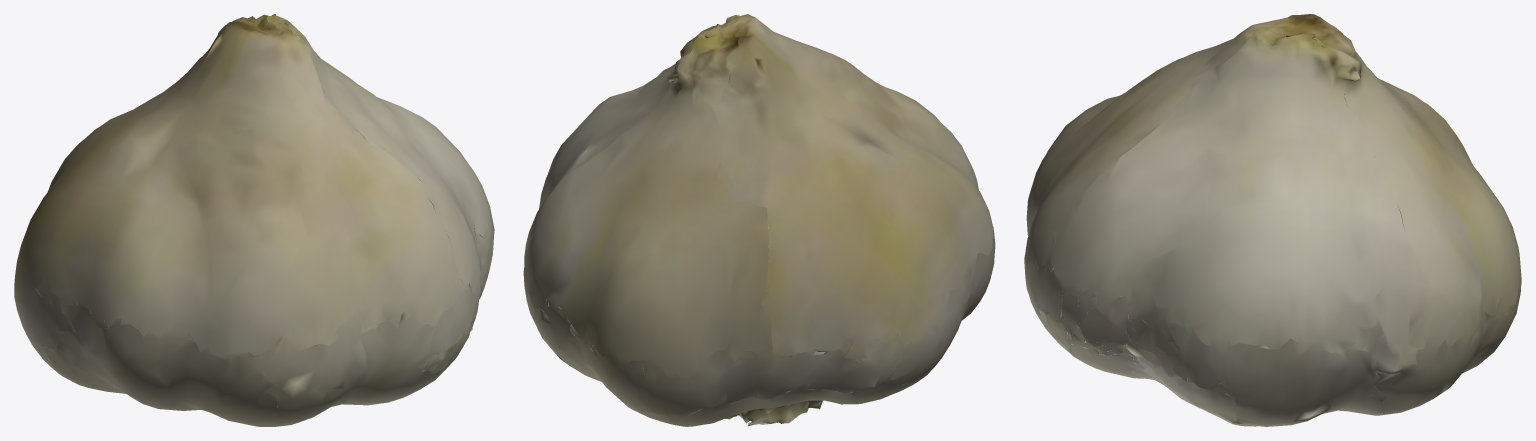
Rendered from obj_garlic.glb.
3 views of the same model, side by side, from view 1: azimuth 30°, elevation 25°; view 2: azimuth 150°, elevation 25°; view 3: azimuth 270°, elevation 25° (orthographic). The views are drawn at different scales.
Parts seen in each view (by area): view 1: Object_3; view 2: Object_3; view 3: Object_3.
Part boxes in pixels (x1,y1,x2,y2): Object_3: (14,14,494,426); Object_3: (523,14,995,426); Object_3: (1024,14,1521,426).
Bounding box in the file's own units: 0.06 × 0.0496 × 0.0599.
Materials: 1 (1 with a texture image).
